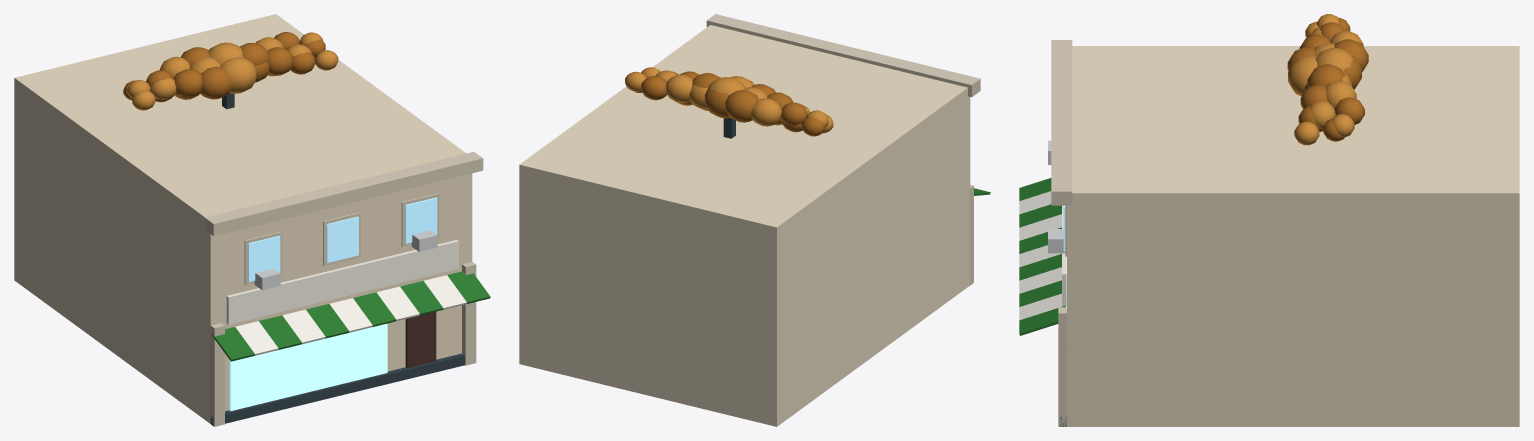
File: town_mw_bakery.glb
3 views of the same model, side by side, from view 1: azimuth 30°, elevation 25°; view 2: azimuth 150°, elevation 25°; view 3: azimuth 270°, elevation 25° (orthographic). The views are drawn at different scales.
Parts seen in each view (by area): view 1: TownMwBakery_body; view 2: TownMwBakery_body; view 3: TownMwBakery_body.
Boxes of the visible parts, x1,y1,x2,y2 form: TownMwBakery_body: (14,14,490,426); TownMwBakery_body: (519,14,990,426); TownMwBakery_body: (1019,14,1519,426).
Size of the model in its own units: 10.3 by 9.6 by 14.37.
